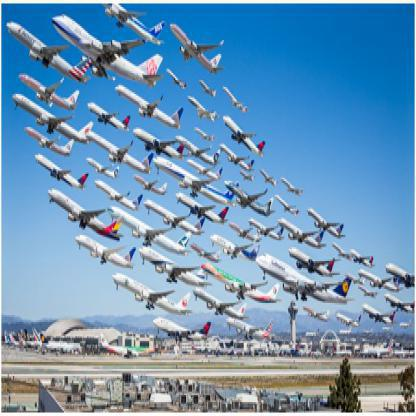CIV_Plane: (51, 14, 162, 102), (6, 12, 88, 94), (11, 91, 91, 152), (44, 176, 116, 242), (153, 152, 226, 212), (118, 79, 186, 138), (111, 270, 189, 320), (168, 14, 222, 81), (73, 232, 138, 278), (193, 282, 242, 336), (222, 105, 262, 162), (87, 90, 129, 139), (308, 201, 343, 245), (385, 248, 413, 296), (280, 165, 304, 203), (352, 244, 374, 271)
